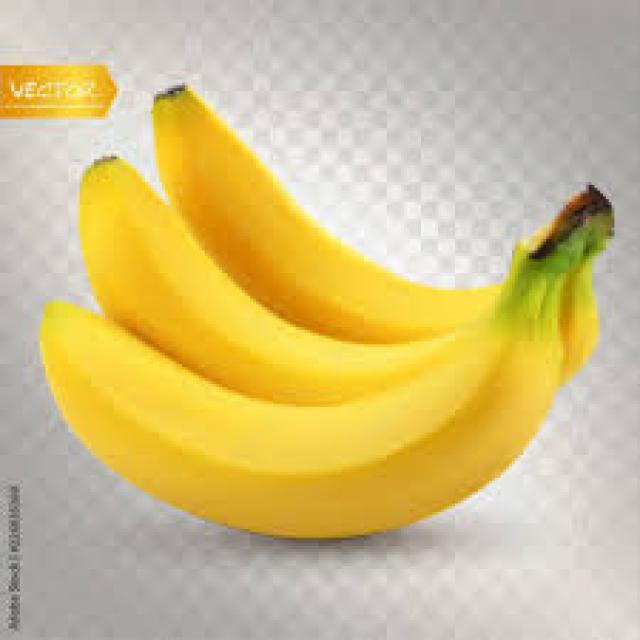Banana: (41, 191, 612, 537), (155, 88, 496, 342), (80, 165, 432, 404)
